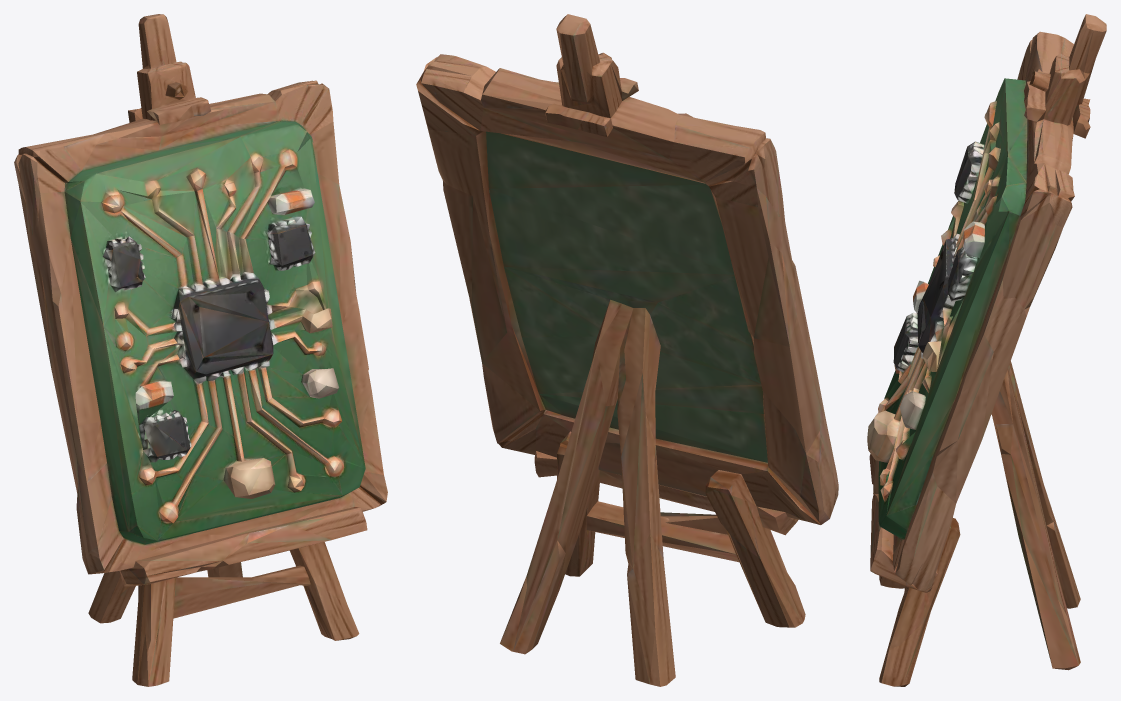
File: circuit-board.glb
3 renders of one model, left to right at view 1: azimuth 30°, elevation 25°; view 2: azimuth 150°, elevation 25°; view 3: azimuth 270°, elevation 25°, orthographic. The views are drawn at different scales.
Size of the model in its own units: 1.04 by 1.9 by 0.6679.
1 material, 1 textured.
